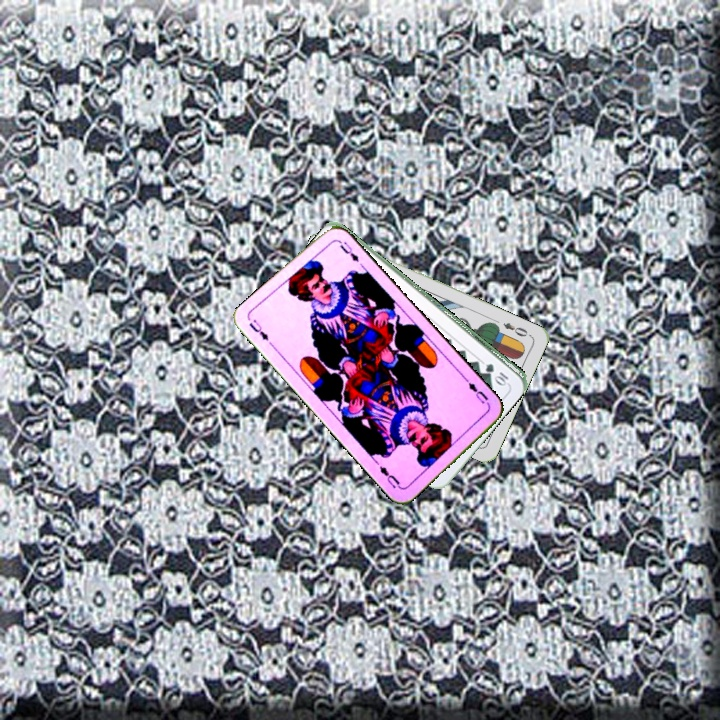EO: (499, 318, 533, 339)
EU: (462, 375, 493, 410), (245, 315, 271, 343)
G10: (481, 359, 511, 387)
